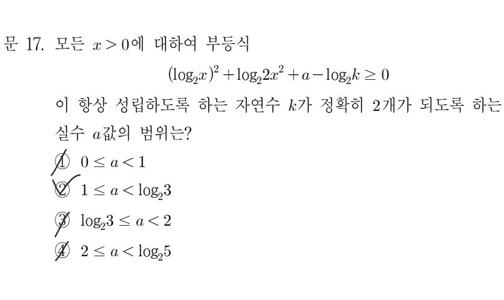1: (50, 174, 83, 203)
paper: (51, 149, 74, 172), (50, 178, 73, 201), (51, 208, 74, 231), (51, 239, 74, 262)
